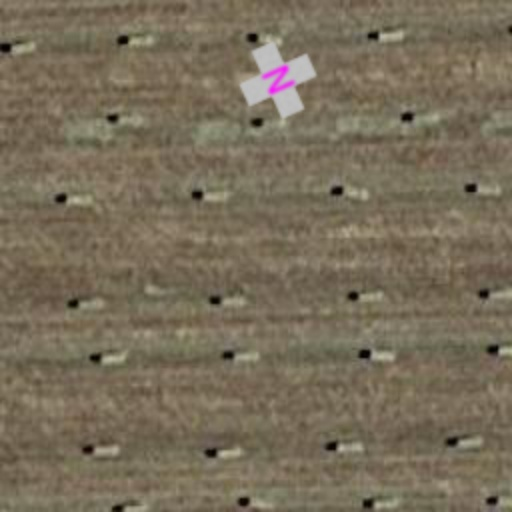cross: (228, 30, 328, 130)
